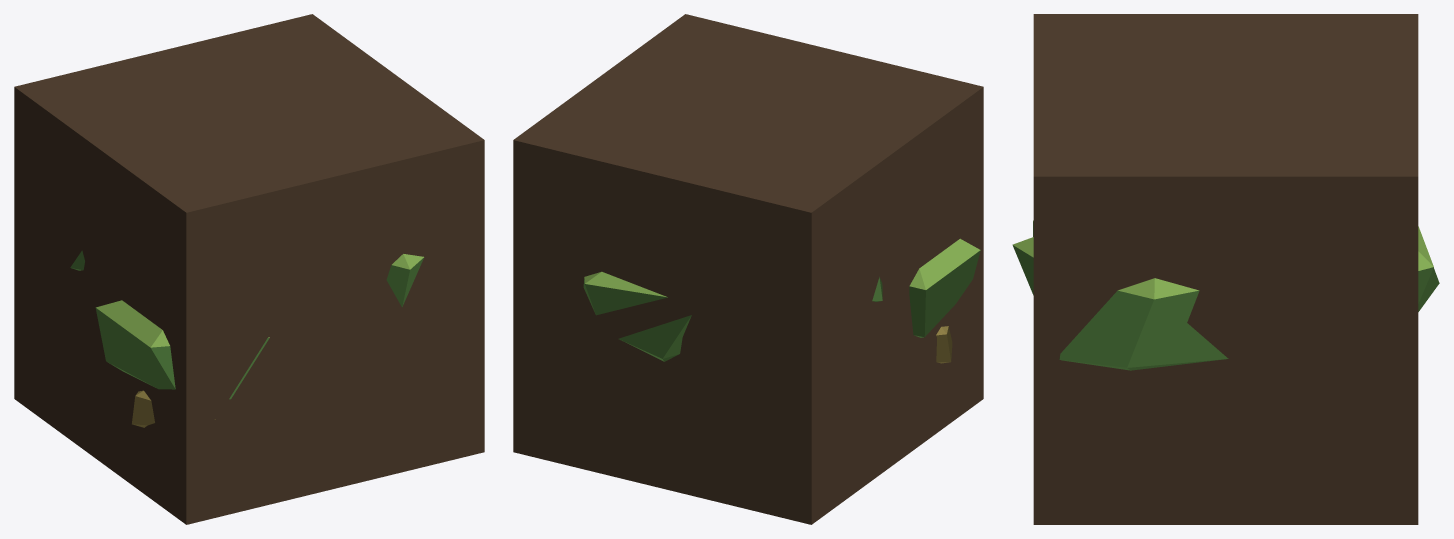
File: bush_scrub.glb
3 views of the same model, side by side, from view 1: azimuth 30°, elevation 25°; view 2: azimuth 150°, elevation 25°; view 3: azimuth 270°, elevation 25° (orthographic). The views are drawn at different scales.
Parts seen in each view (by area): view 1: col_BushScrub, BushScrub_Full_LOD0, BushScrub_Low_LOD0; view 2: col_BushScrub, BushScrub_Full_LOD0, BushScrub_Low_LOD0; view 3: col_BushScrub, BushScrub_Full_LOD0.
Part boxes in pixels (x1=…): col_BushScrub: x1=14, y1=14, x2=484, y2=524; BushScrub_Full_LOD0: x1=70, y1=250, x2=424, y2=399; BushScrub_Low_LOD0: x1=132, y1=390, x2=215, y2=427; col_BushScrub: x1=513, y1=14, x2=983, y2=524; BushScrub_Full_LOD0: x1=583, y1=238, x2=980, y2=361; BushScrub_Low_LOD0: x1=936, y1=326, x2=952, y2=363; col_BushScrub: x1=1033, y1=14, x2=1418, y2=524; BushScrub_Full_LOD0: x1=1012, y1=220, x2=1439, y2=370.
Size of what is drawn, in the model's own units: 1 by 0.9 by 1.
